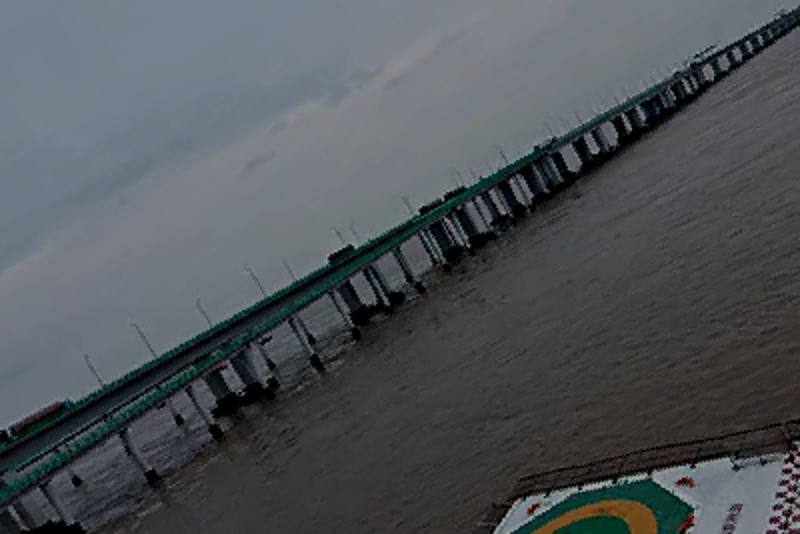Apron: (530, 497, 660, 534)
